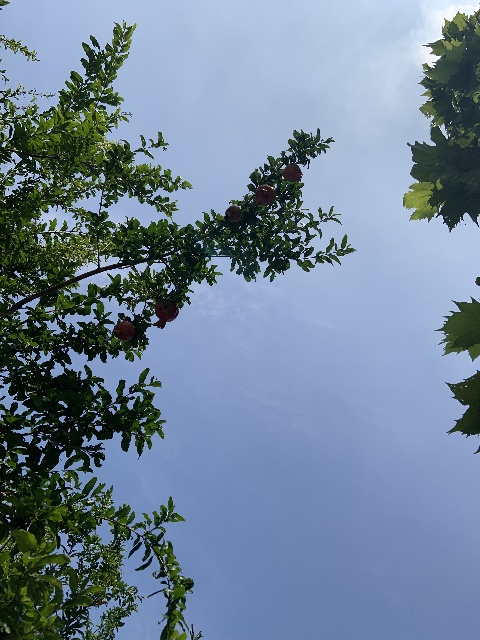ripe: (152, 300, 179, 329), (254, 184, 276, 205), (113, 320, 134, 341), (282, 164, 303, 182), (224, 205, 241, 222)
